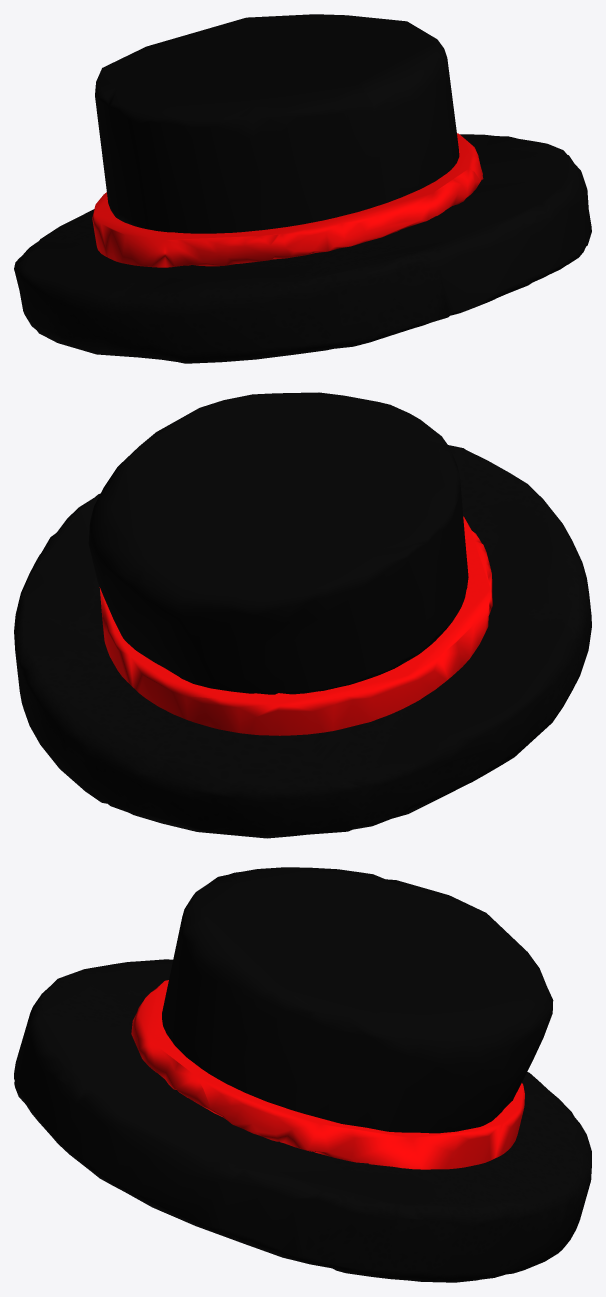
File: top hat.glb
3 renders of one model, top to bottom at view 1: azimuth 30°, elevation 25°; view 2: azimuth 150°, elevation 25°; view 3: azimuth 270°, elevation 25°, orthographic.
Visible parts, largest first — view 1: hat_tophat.001; view 2: hat_tophat.001; view 3: hat_tophat.001.
Part boxes in pixels (x1=…): hat_tophat.001: x1=14, y1=14, x2=591, y2=363; hat_tophat.001: x1=14, y1=392, x2=591, y2=838; hat_tophat.001: x1=14, y1=867, x2=591, y2=1282.
Bounding box in the file's own units: 0.4968 × 0.2817 × 0.4875.
2 materials, 2 textured.
